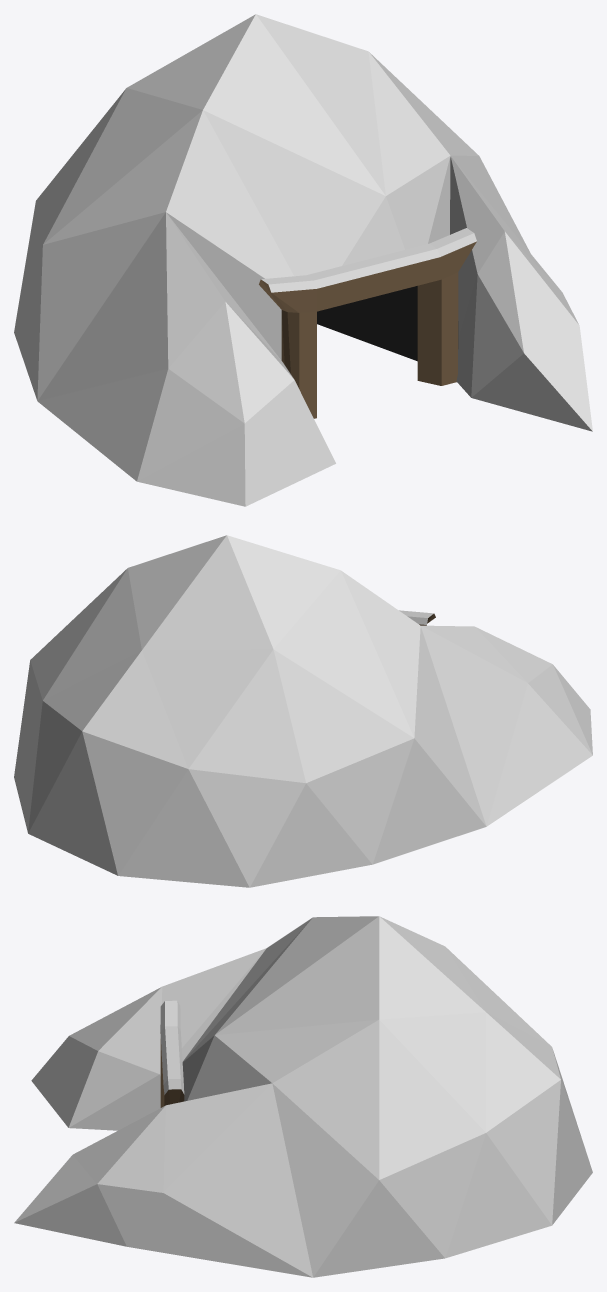
File: mine (1).fbx
3 views of the same model, one above another, from view 1: azimuth 30°, elevation 25°; view 2: azimuth 150°, elevation 25°; view 3: azimuth 270°, elevation 25° (orthographic). The views are drawn at different scales.
Parts seen in each view (by area): view 1: Icosphere; view 2: Icosphere; view 3: Icosphere.
Part boxes in pixels (x1,y1,x2,y2): Icosphere: (14,14,592,506); Icosphere: (14,535,592,887); Icosphere: (14,916,592,1277).
Bounding box in the file's own units: 241 × 132 × 271.
